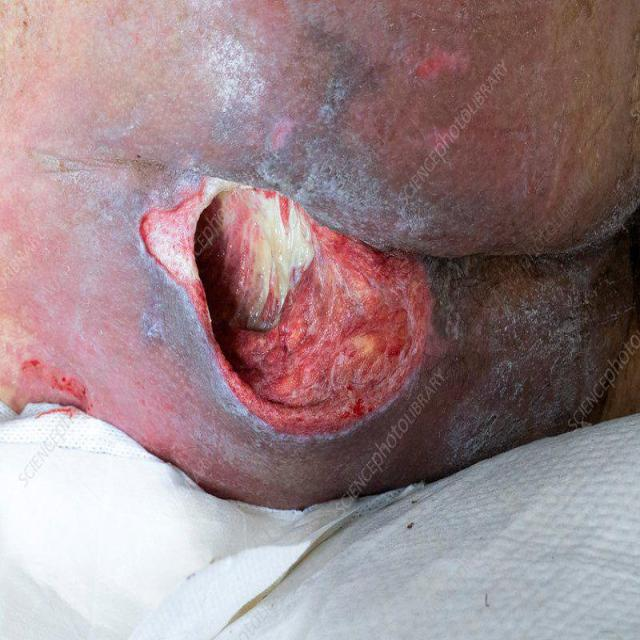stage-4: (140, 178, 431, 435)
